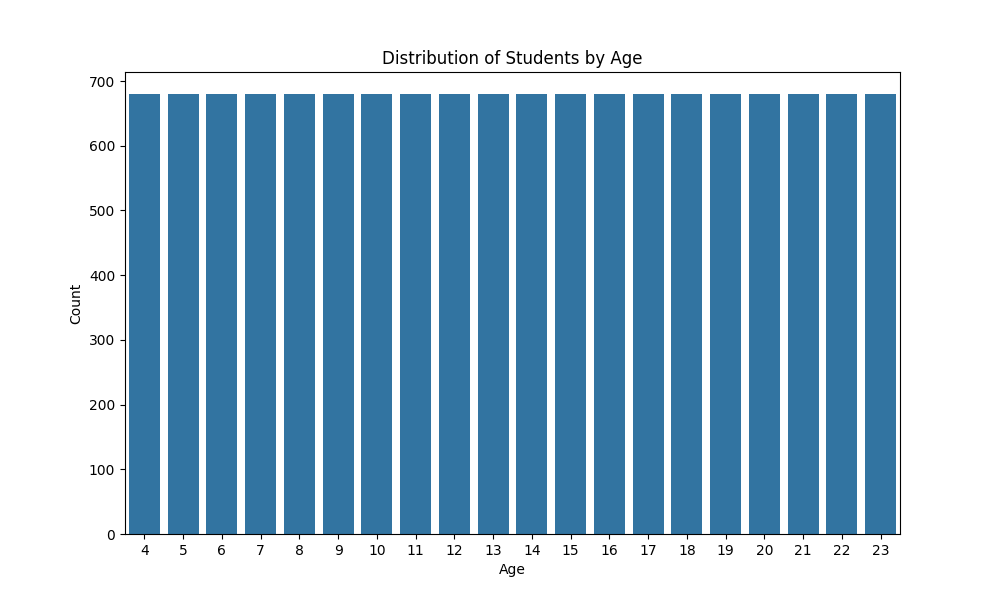

The dashboard page shown, as its layout file describes it:
{"tool":"tableau","page":{"name":"Dashboard 1","canvas":[1000,1000],"units":"permille","ordinal":0},"visuals":[{"type":"worksheet","title":"Sheet 2","mark":"Bar","rows":["count"],"cols":["date","date"],"box":[1.8,480.7,991,499.4]}]}

Visuals, with their boxes on the dashboard's canvas, which has no fixed pixel size, in thousandths of its width and height (x1, y1, x2, y2). These are canvas units, not pixel positions in the 1000x600 screenshot, which may show the page scaled, cropped or inside an application window:
"Sheet 2" worksheet (Bar marks): (x1=2, y1=481, x2=993, y2=980)
